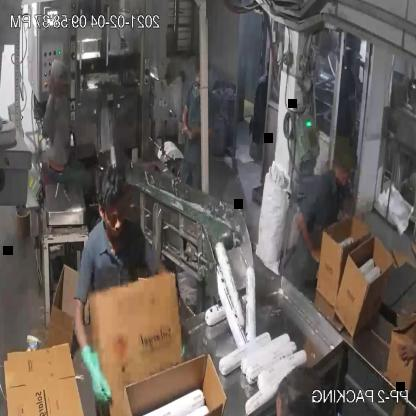glove: (74, 325, 117, 416)
no_glove: (294, 200, 327, 271), (392, 326, 416, 372), (178, 96, 192, 147)
